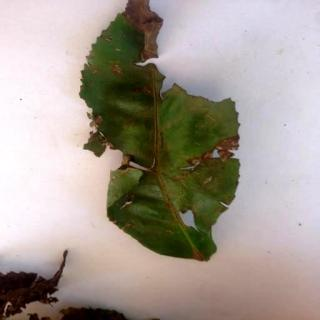Brown Blight: (81, 1, 243, 262)
